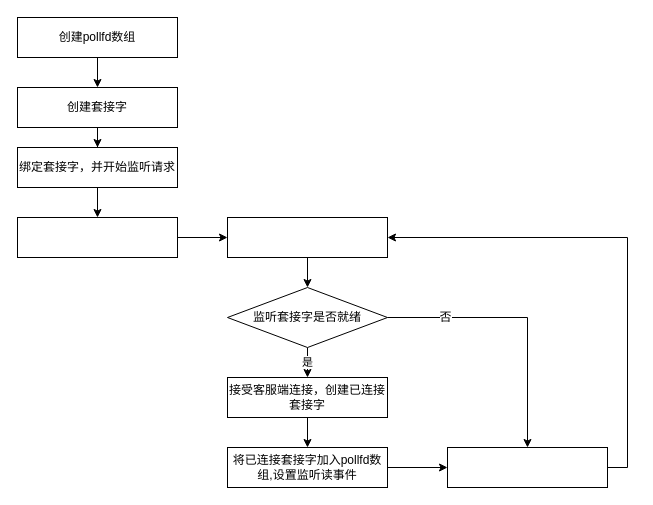
Image size: 653x505. Some labels were removed from this diagram. The shapes that lost their labels are listed below. From the top down, each one's centre as x and y in pixels, then its label:
At (97,237): "将监听套接字加入加入pollfd数组，设置监听可读事件".
At (307,237): "调用poll函数检测pollfd数组中是否有文件描述符就绪".
At (527,467): "遍历其他描述符，对就绪描述符进行处理".
